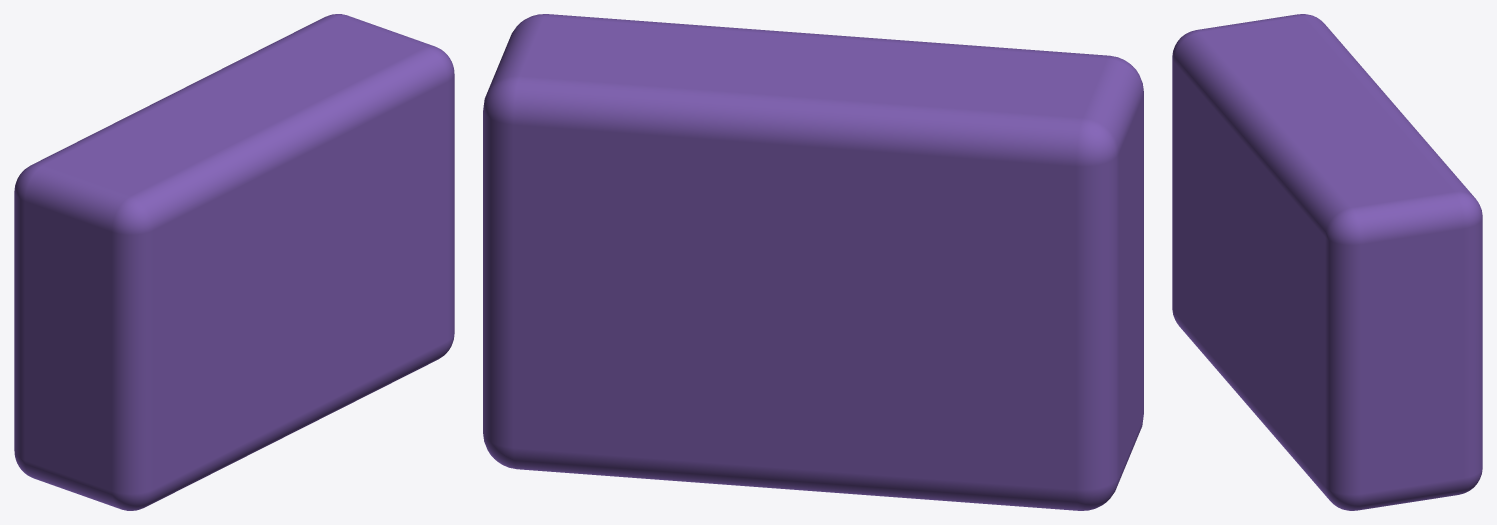
3 views of the same model, side by side, from view 1: azimuth 30°, elevation 25°; view 2: azimuth 150°, elevation 25°; view 3: azimuth 270°, elevation 25° (orthographic). The views are drawn at different scales.
Parts seen in each view (by area): view 1: box; view 2: box; view 3: box.
Boxes of the visible parts, x1,y1,x2,y2 form: box: (14,14,454,510); box: (483,14,1143,510); box: (1172,14,1482,510).
Bounding box in the file's own units: 2.14 × 1.4 × 1.31.
